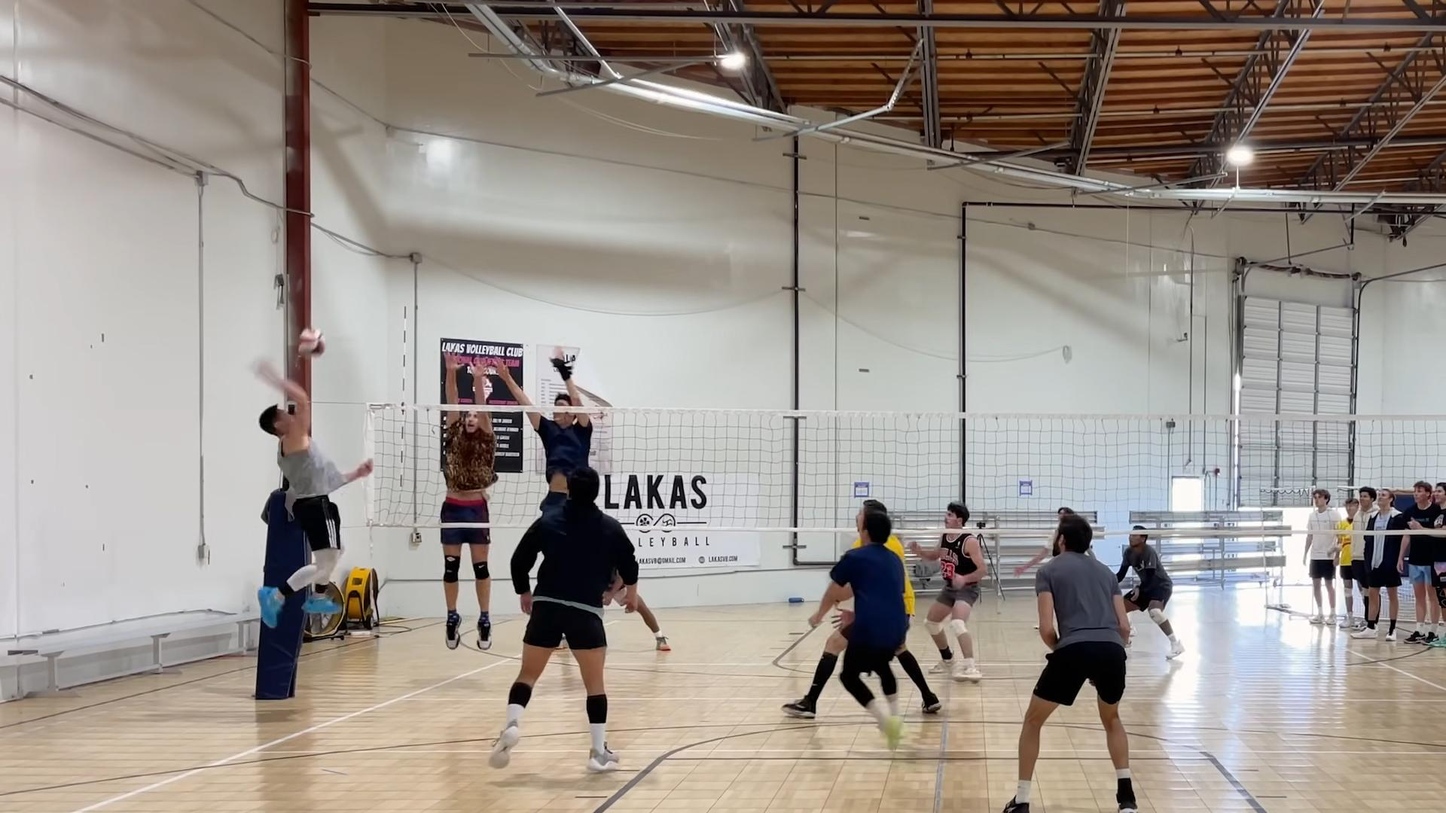Attack: (240, 358, 376, 632)
Block: (423, 344, 498, 652), (477, 349, 624, 486)
Player: (490, 466, 638, 771), (1004, 515, 1137, 812), (810, 510, 908, 748), (910, 502, 986, 682), (1115, 533, 1184, 659), (782, 610, 851, 718), (1014, 527, 1060, 577), (627, 598, 670, 650)
ball: (295, 327, 322, 357)
